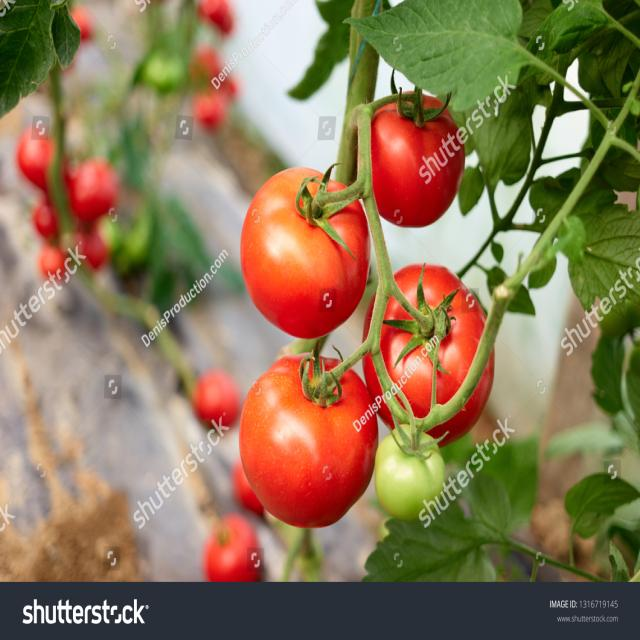kirmizi: (228, 75, 529, 542)
yesil: (368, 403, 455, 537)
